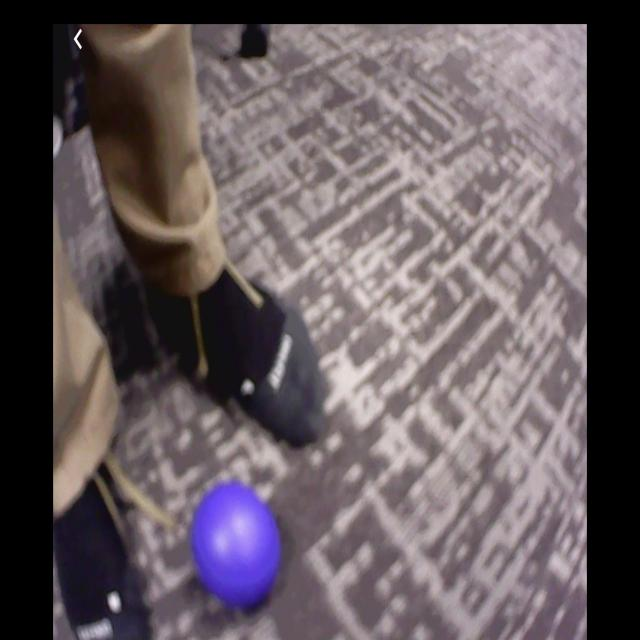ball: (190, 483, 285, 608)
